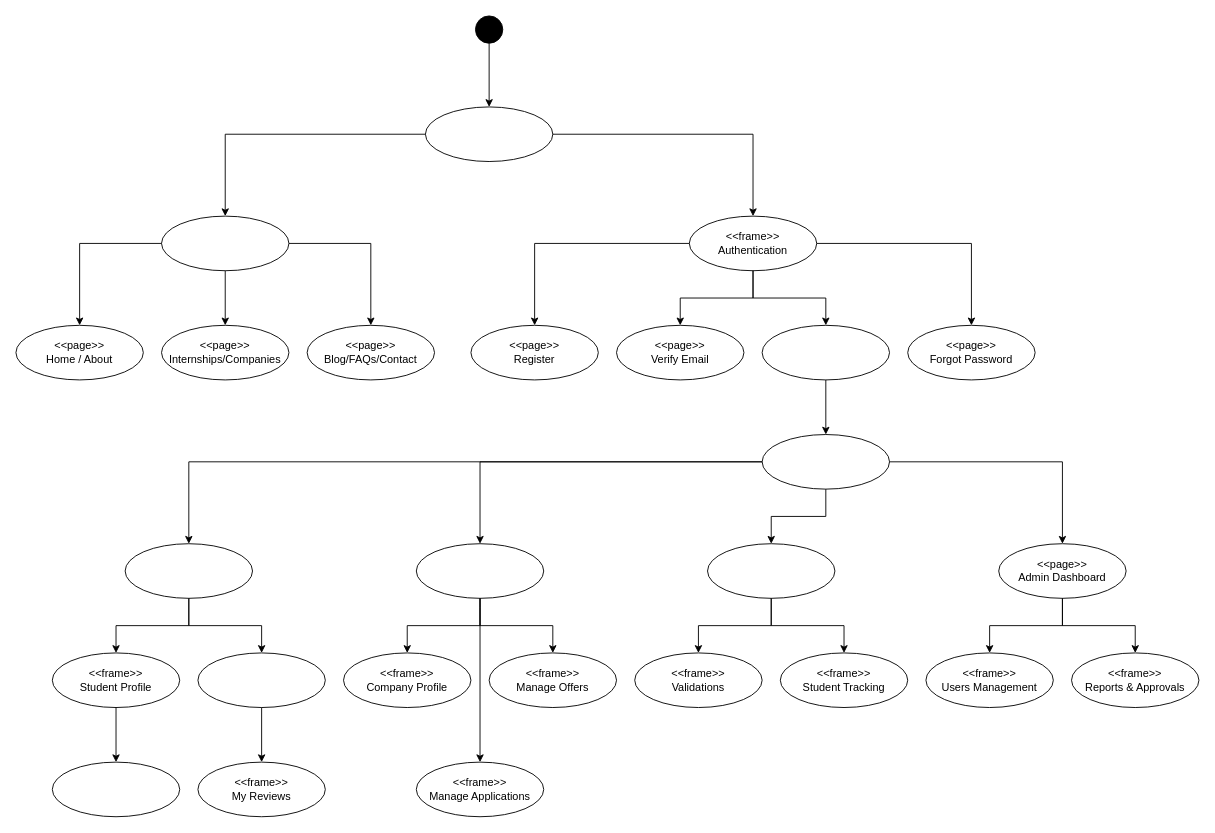
The diagram is 1215 pixels wide and 833 high, and some of its shapes have lost their labels. The box of each missing label's shape, as (x1, y1, x2, y2) in pixels:
<<frame>> My Applications: (197, 652, 325, 708)
<<frame>> Public Navigation: (161, 215, 289, 271)
<<frame>> Saved Offers: (51, 761, 180, 817)
<<page>> Company Dashboard: (415, 543, 544, 598)
<<page>> Login: (761, 324, 890, 380)
<<page>> Stag.io Web Portal: (425, 106, 553, 162)
<<page>> Student Dashboard: (124, 543, 253, 598)
<<page>> University Dashboard: (707, 543, 835, 598)
<<process>> Role Redirect: (761, 434, 890, 489)
